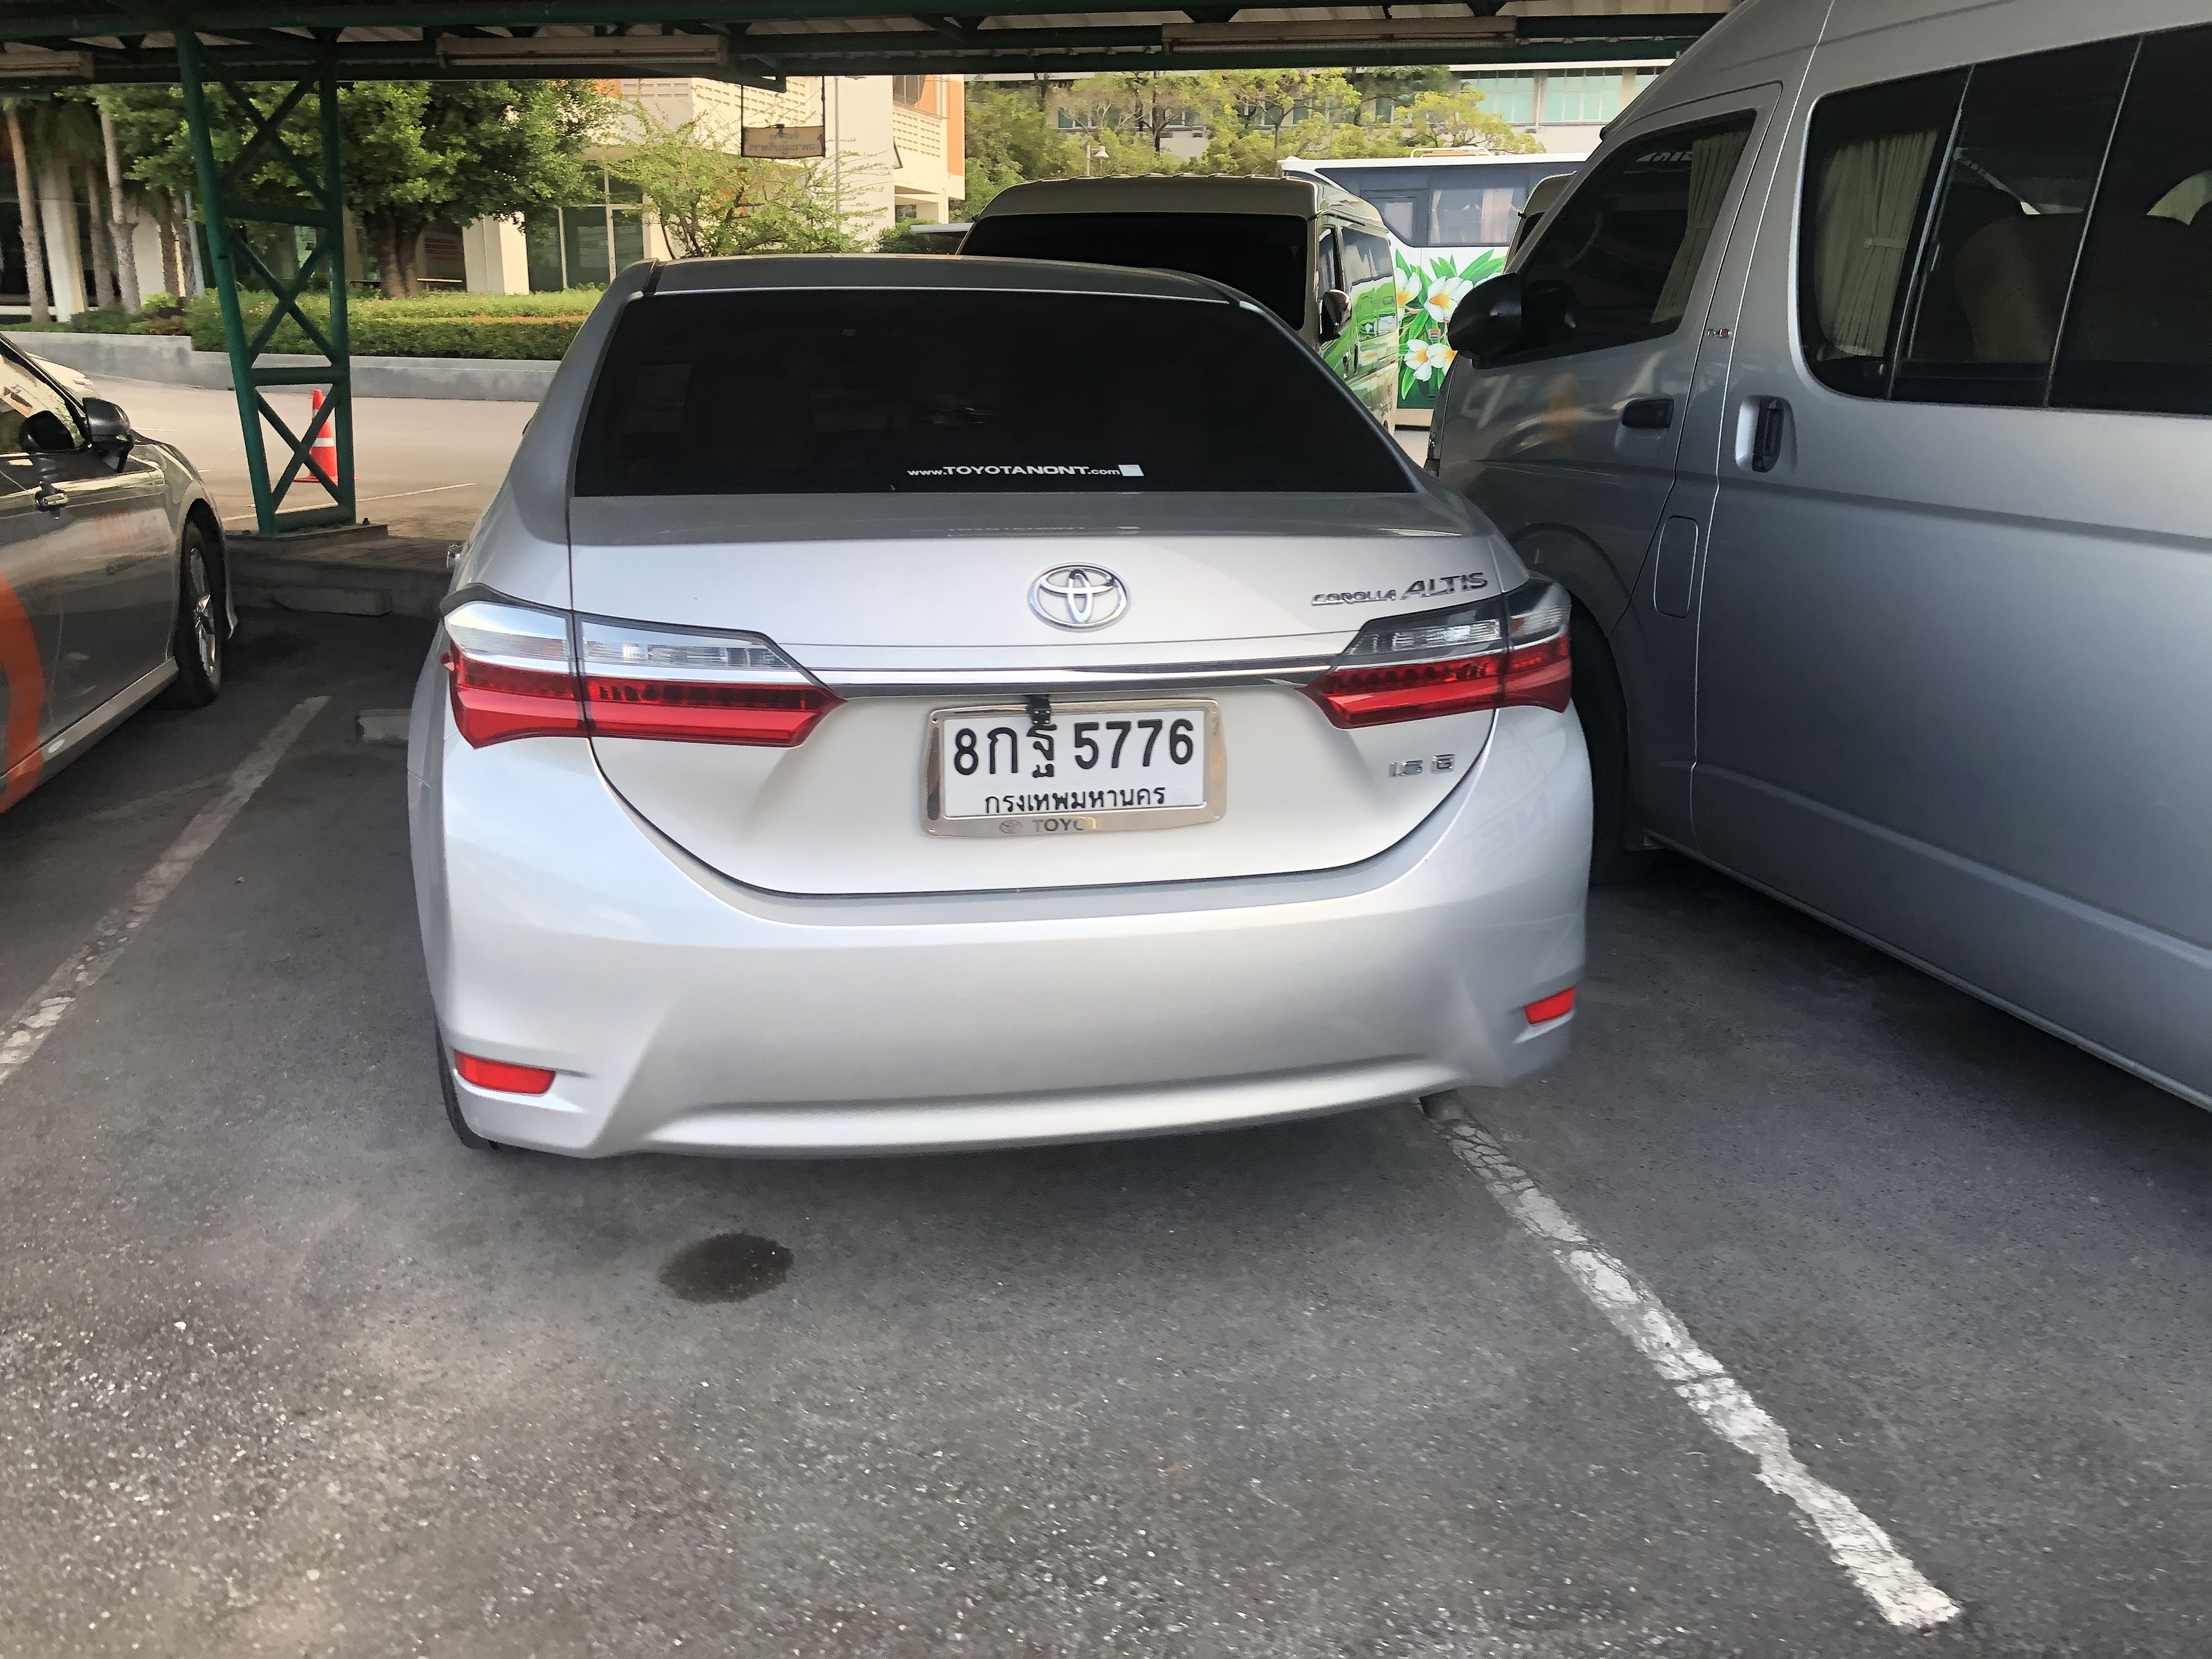in: (941, 718, 1205, 812)
out: (914, 697, 1230, 838)
